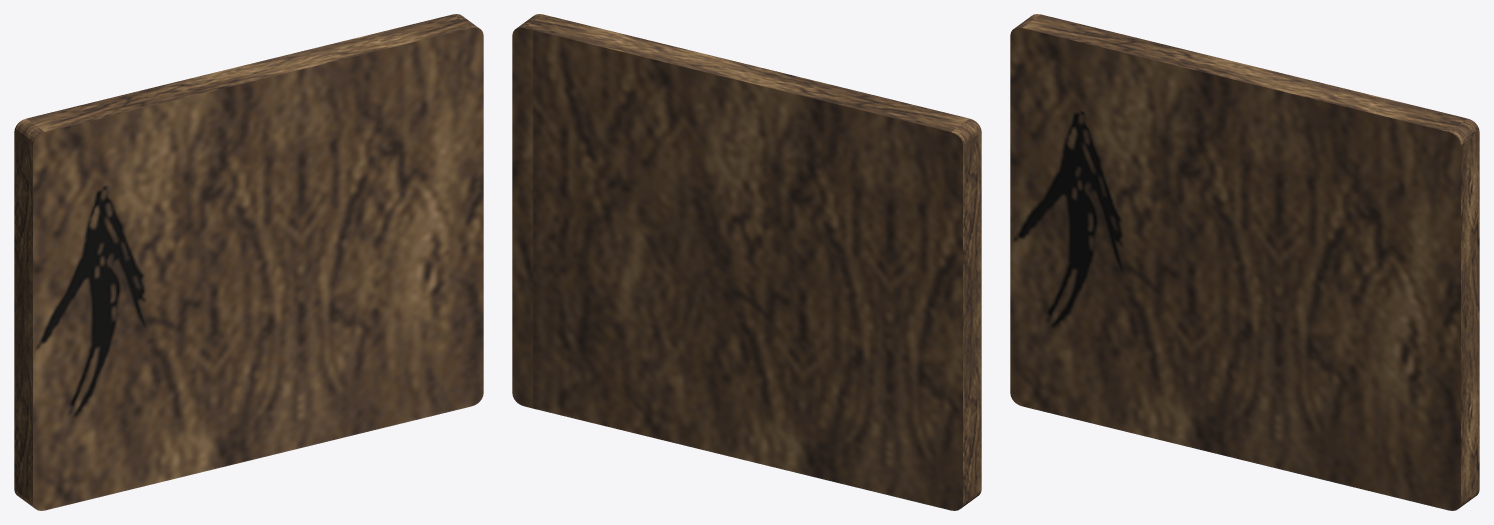
File: f_slab_arrow.fbx
3 renders of one model, left to right at view 1: azimuth 30°, elevation 25°; view 2: azimuth 150°, elevation 25°; view 3: azimuth 330°, elevation 25°, orthographic.
Parts seen in each view (by area): view 1: f_slab.001; view 2: f_slab.001; view 3: f_slab.001.
Boxes of the visible parts, bbox=[...] form: f_slab.001: bbox=[14, 14, 483, 510]; f_slab.001: bbox=[512, 14, 981, 510]; f_slab.001: bbox=[1010, 14, 1479, 510].
Size of the model in its own units: 227 by 183 by 16.22.
